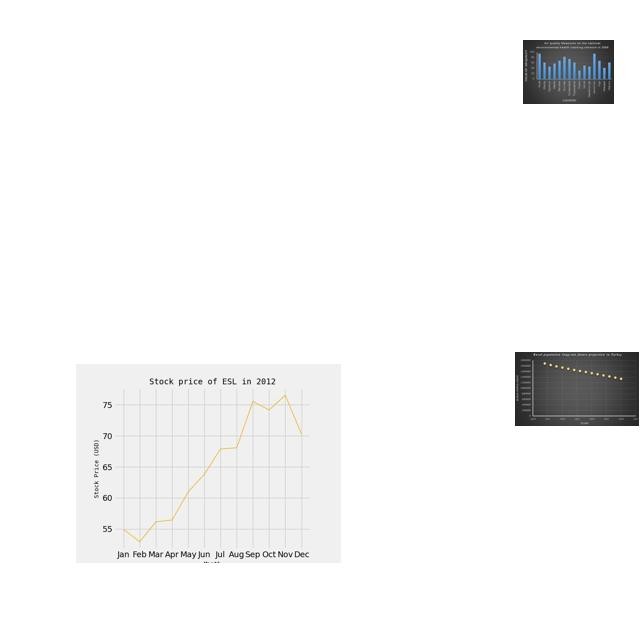Graph: (76, 364, 341, 563), (515, 352, 639, 426), (523, 40, 614, 104)
